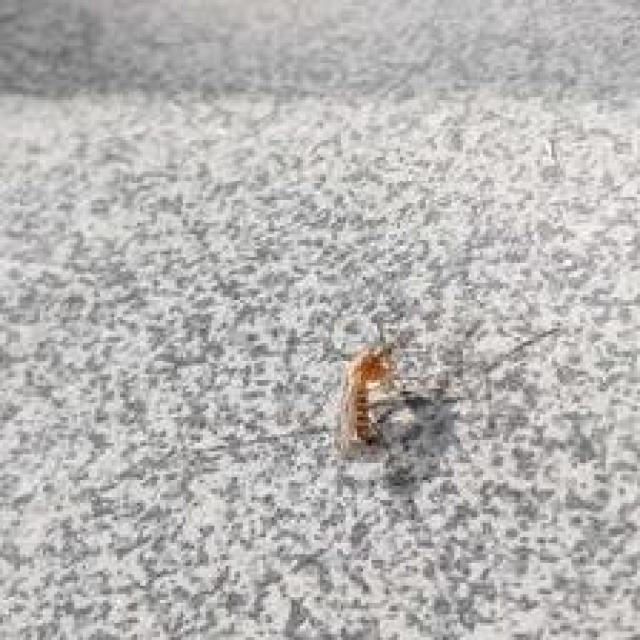Culex: (336, 341, 398, 453)
